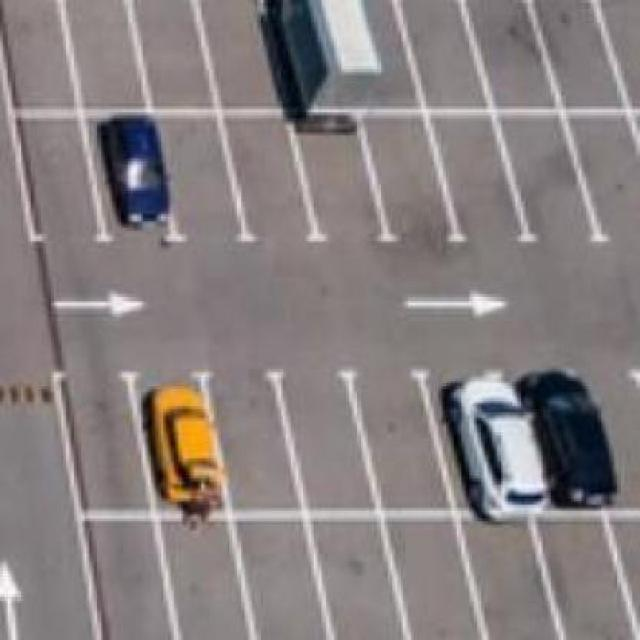car: (440, 372, 554, 525), (530, 369, 620, 515), (146, 378, 221, 515), (96, 112, 172, 232)
truck: (274, 0, 382, 144)
